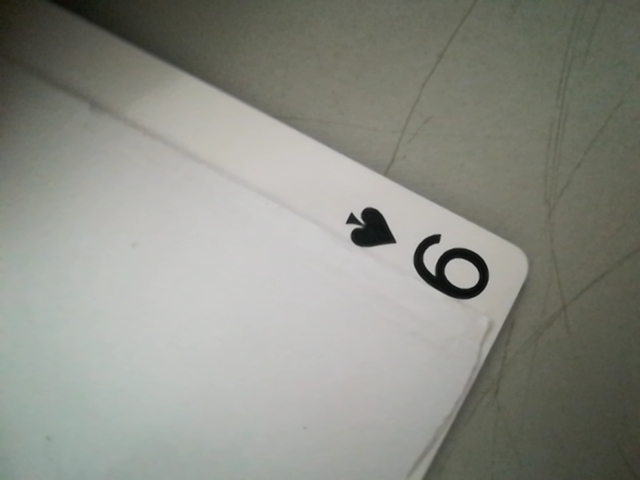ht 9: (326, 203, 507, 311)
